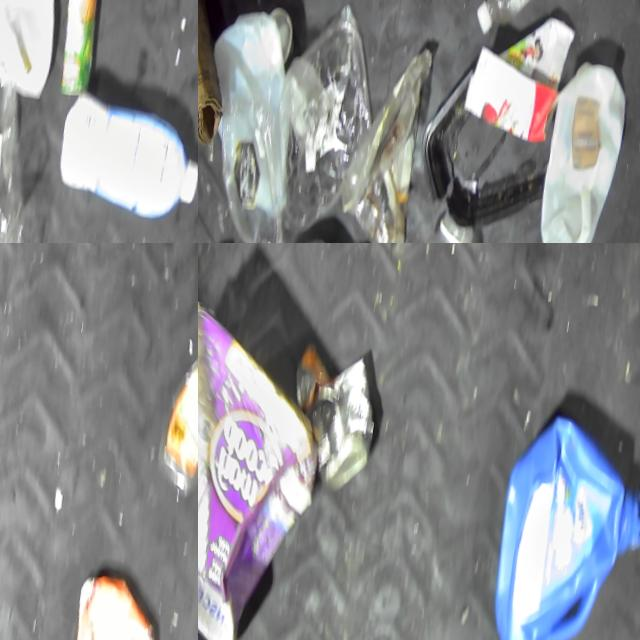can: (305, 352, 385, 488), (55, 0, 110, 101)
milk_jug: (532, 54, 629, 243), (0, 0, 70, 95)
non_white_jug: (485, 404, 640, 640), (60, 562, 167, 640)
plastic_bottle: (53, 79, 198, 219), (471, 0, 601, 59)
